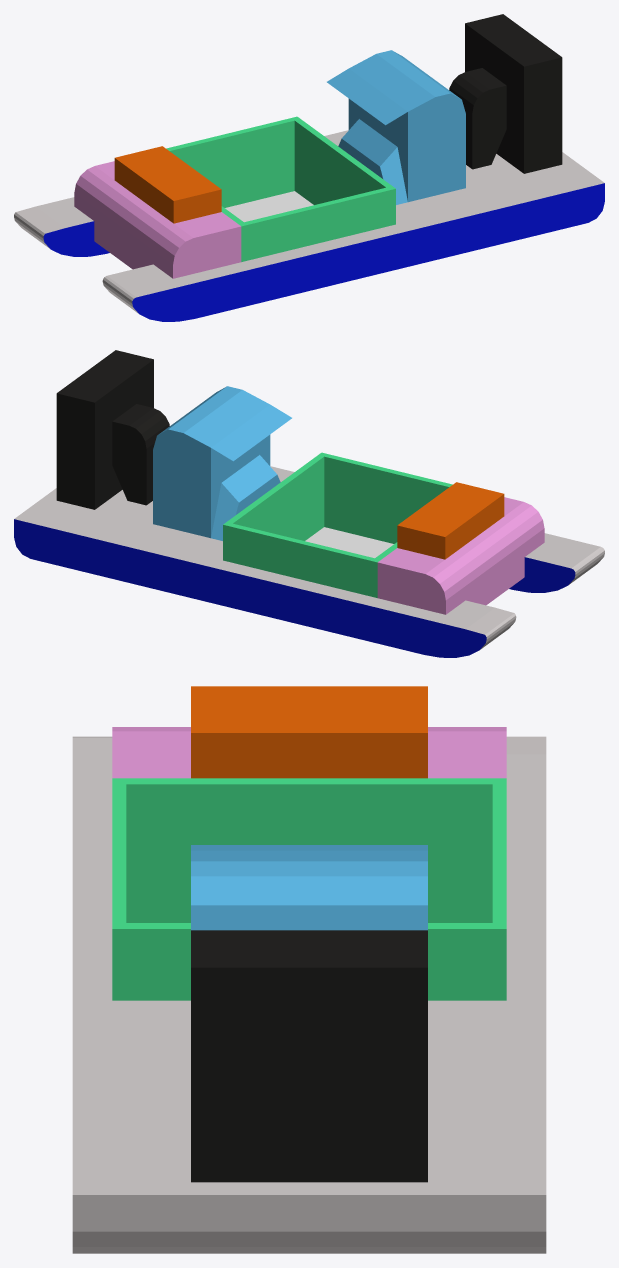
File: boat.fbx
3 views of the same model, one above another, from view 1: azimuth 30°, elevation 25°; view 2: azimuth 150°, elevation 25°; view 3: azimuth 270°, elevation 25° (orthographic). The views are drawn at different scales.
Parts seen in each view (by area): view 1: boat, trashfill; view 2: boat, trashfill; view 3: boat.
Part boxes in pixels (x1=…): boat: x1=14, y1=14, x2=604, y2=321; trashfill: x1=225, y1=191, x2=313, y2=222; boat: x1=14, y1=350, x2=604, y2=657; trashfill: x1=305, y1=527, x2=393, y2=558; boat: x1=72, y1=686, x2=546, y2=1253.
Size of the model in its own units: 2766 by 800 by 1200.
